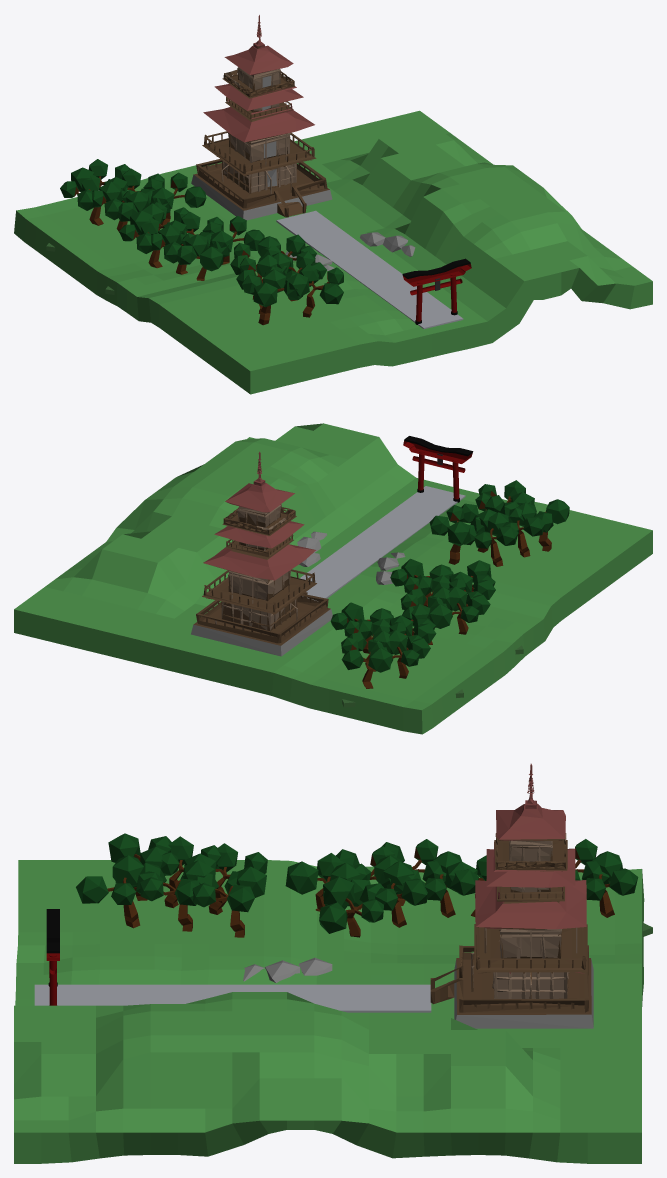
The model's file is Santuarioshinto.fbx.
3 views of the same model, one above another, from view 1: azimuth 30°, elevation 25°; view 2: azimuth 150°, elevation 25°; view 3: azimuth 270°, elevation 25° (orthographic). The views are drawn at different scales.
Visible parts, largest first — view 1: Puerta?tori; view 2: Puerta?tori; view 3: Puerta?tori.
Boxes of the visible parts, x1=… form: Puerta?tori: x1=14, y1=15, x2=652, y2=394; Puerta?tori: x1=14, y1=423, x2=652, y2=734; Puerta?tori: x1=14, y1=763, x2=652, y2=1163.
Bounding box in the file's own units: 18703 × 8836 × 18758.
